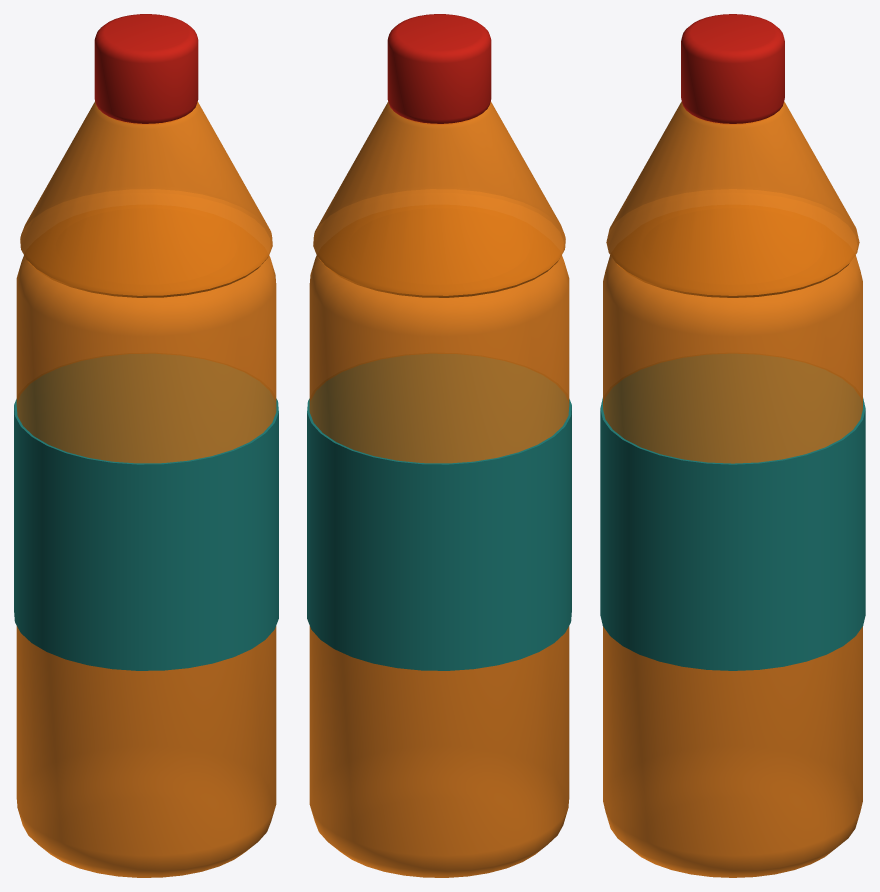
Rendered from soda_bottle.glb.
The picture shows the model from 3 angles, left to right: view 1: azimuth 30°, elevation 25°; view 2: azimuth 150°, elevation 25°; view 3: azimuth 270°, elevation 25°; orthographic projection.
Visible parts, largest first — view 1: soda_bottle; view 2: soda_bottle; view 3: soda_bottle.
Boxes of the visible parts, <box> form: soda_bottle: <box>14,14,278,877</box>; soda_bottle: <box>307,14,571,877</box>; soda_bottle: <box>600,14,865,877</box>.
Size of the model in its own units: 0.0816 by 0.2725 by 0.0816.
